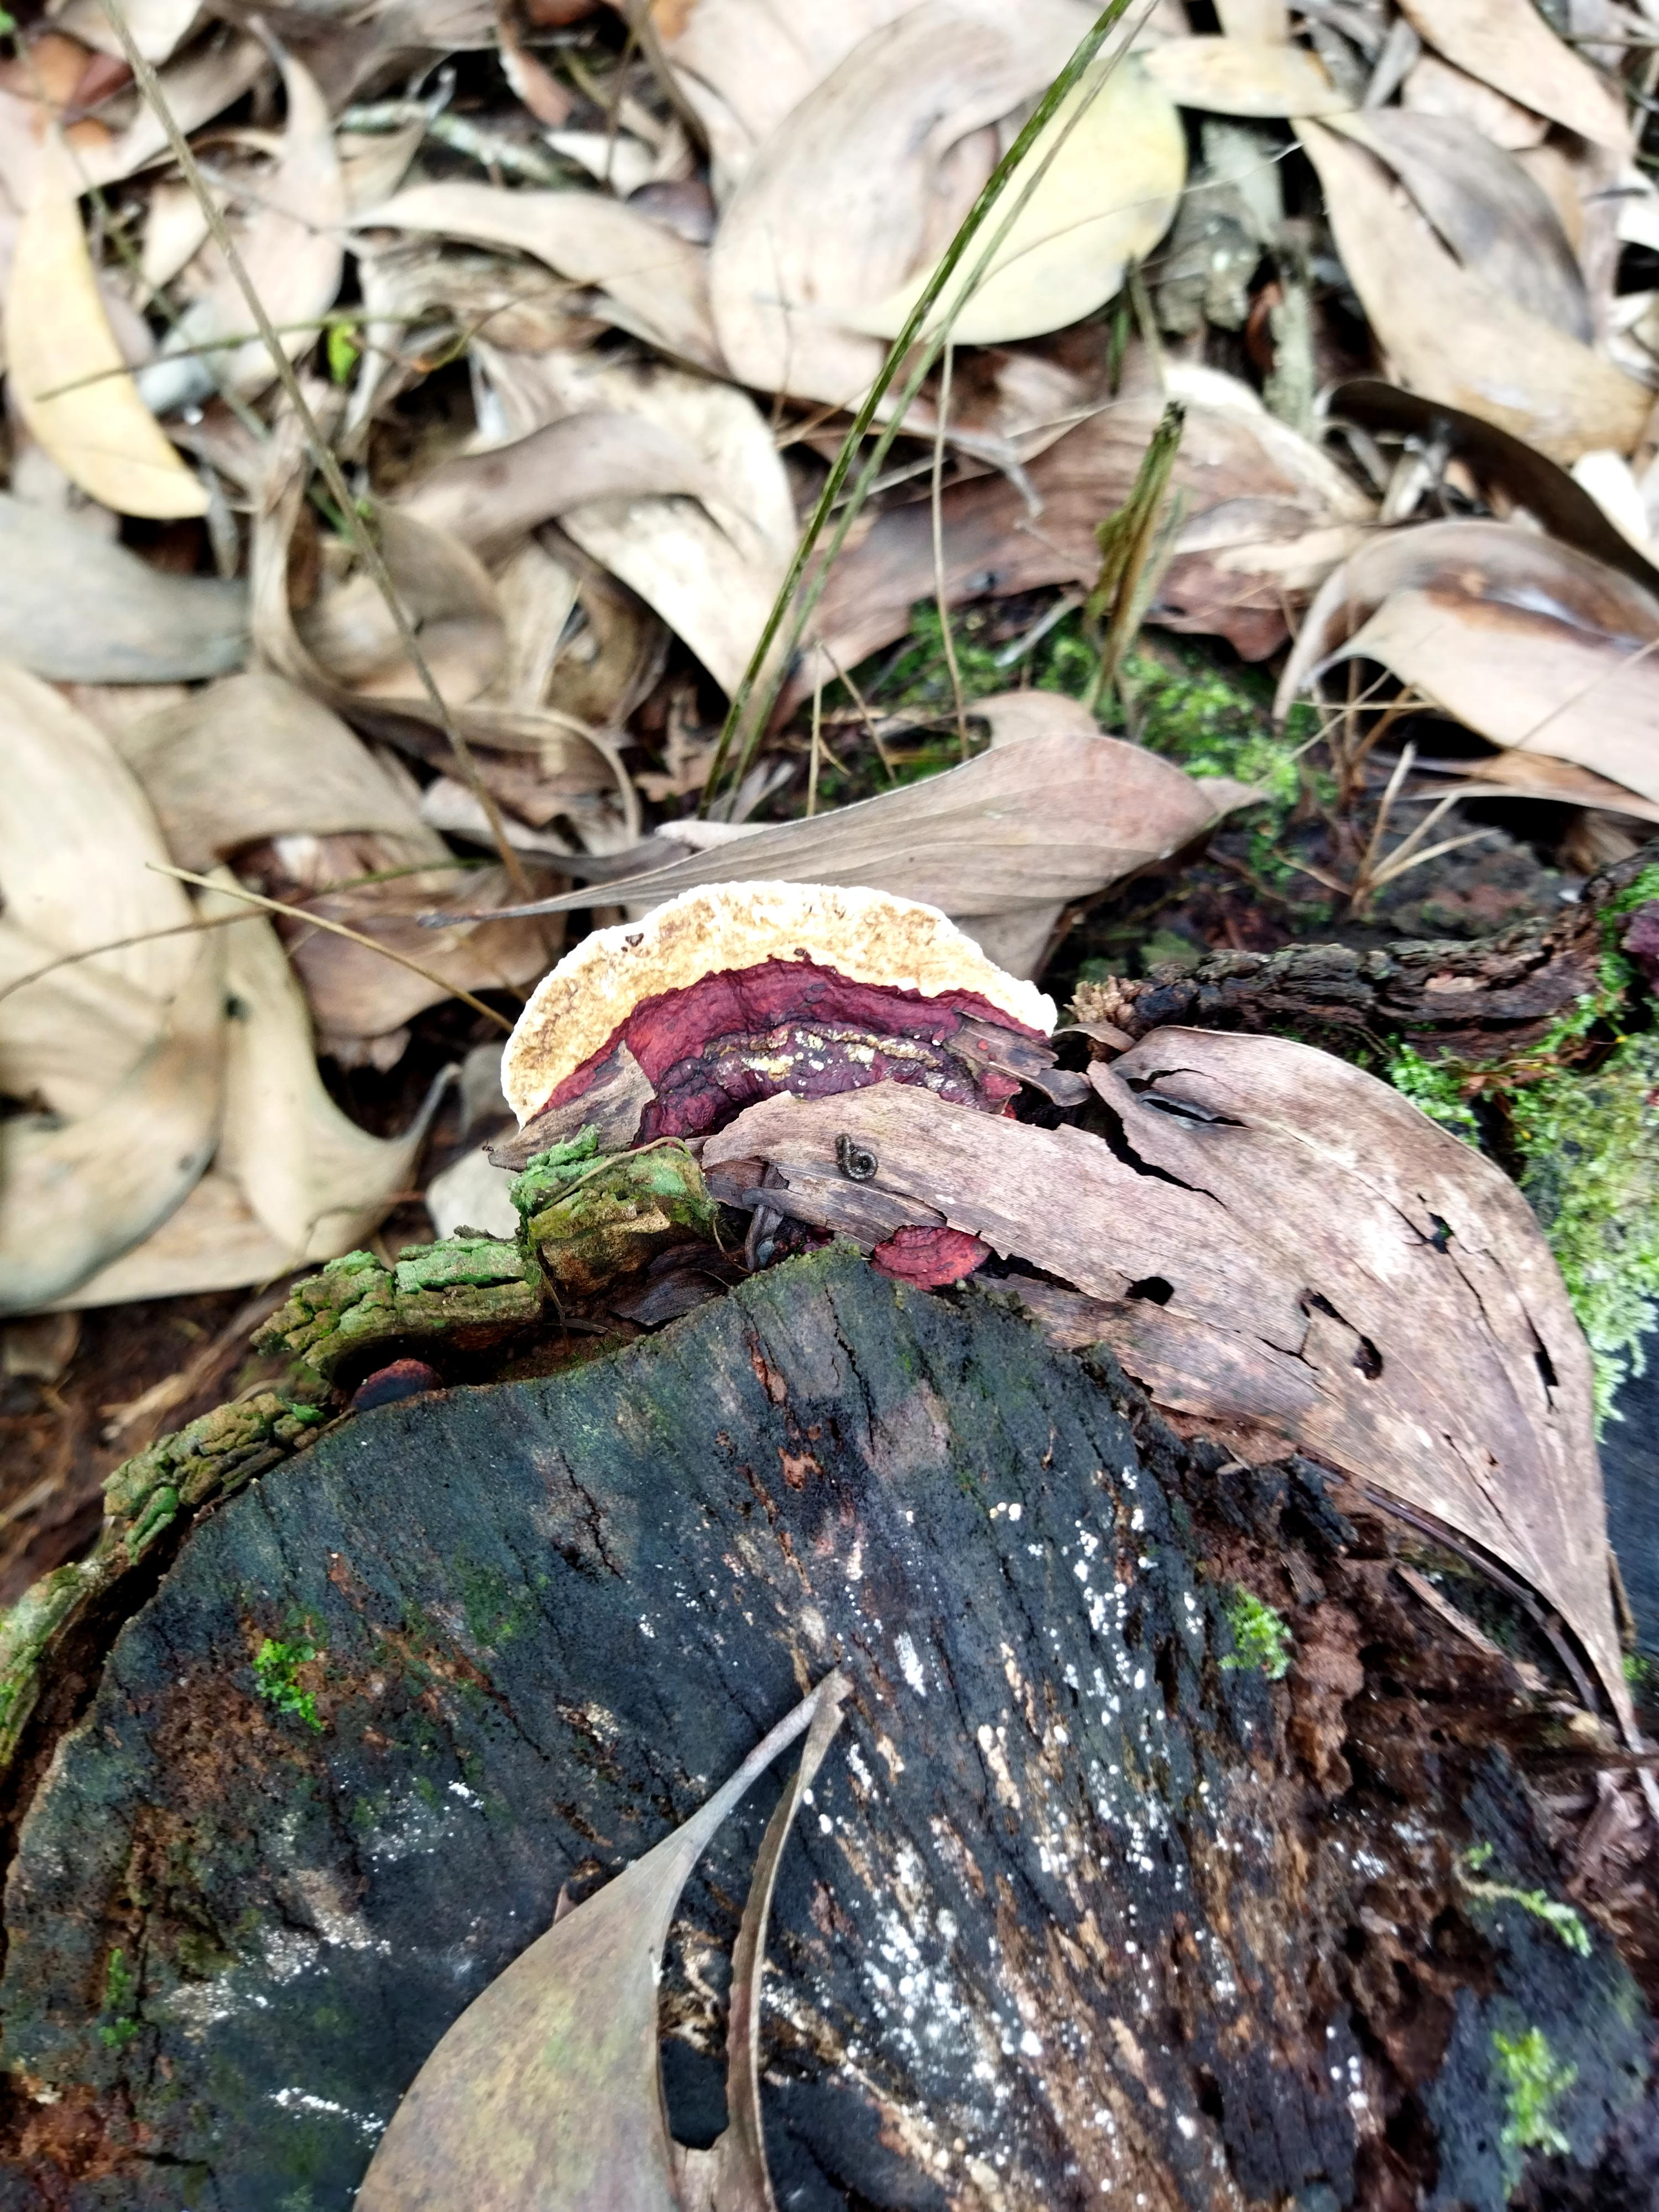Ganoderma - Fruit Body: (498, 897, 1115, 1177)
